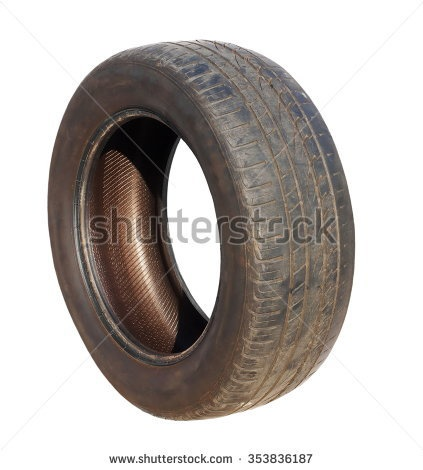tire: (43, 37, 358, 421)
